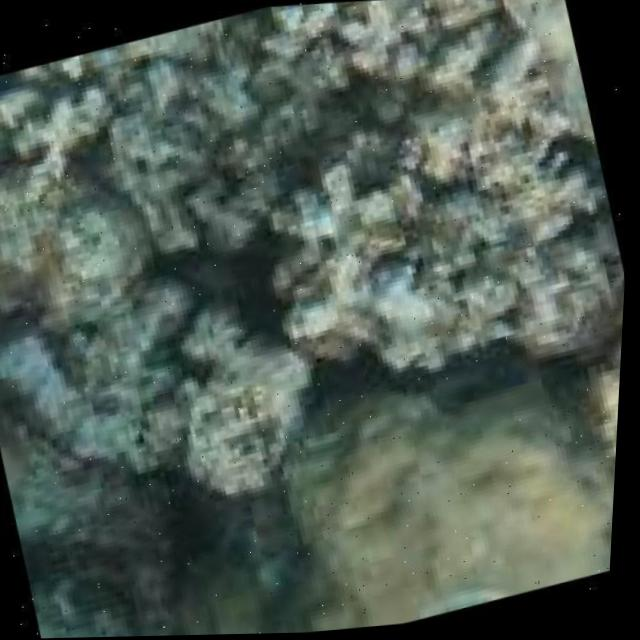Dead Coral: (0, 16, 635, 410)
